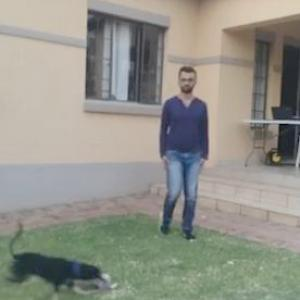follow: (154, 66, 211, 242)
